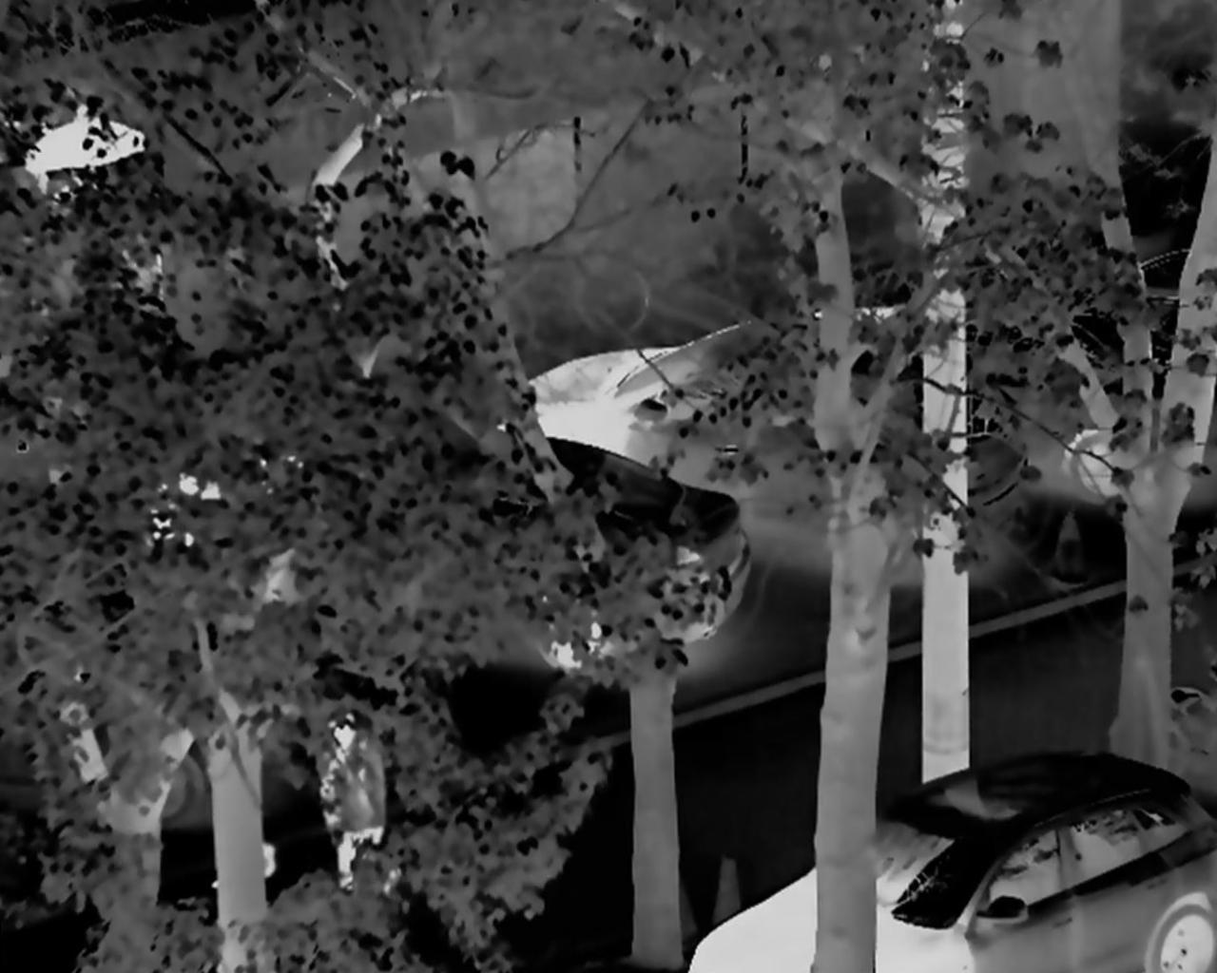person: (317, 717, 403, 917)
